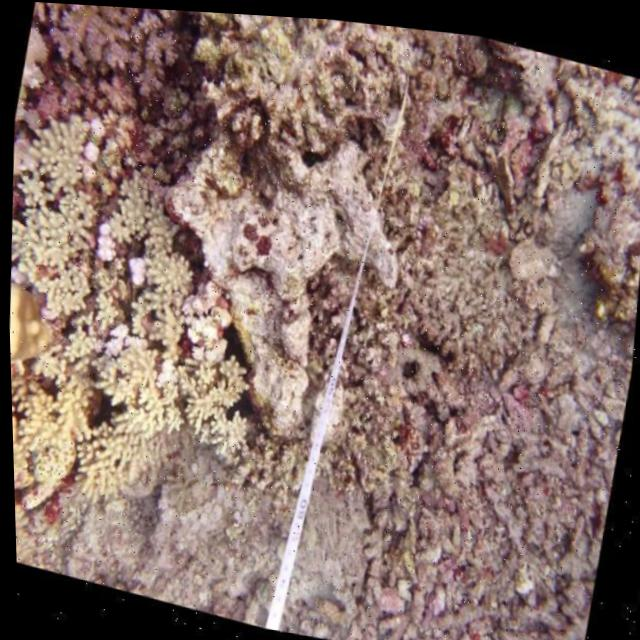Bleached Coral: (3, 110, 125, 347), (42, 330, 189, 506), (92, 169, 221, 362), (8, 332, 82, 580), (169, 351, 272, 477)
